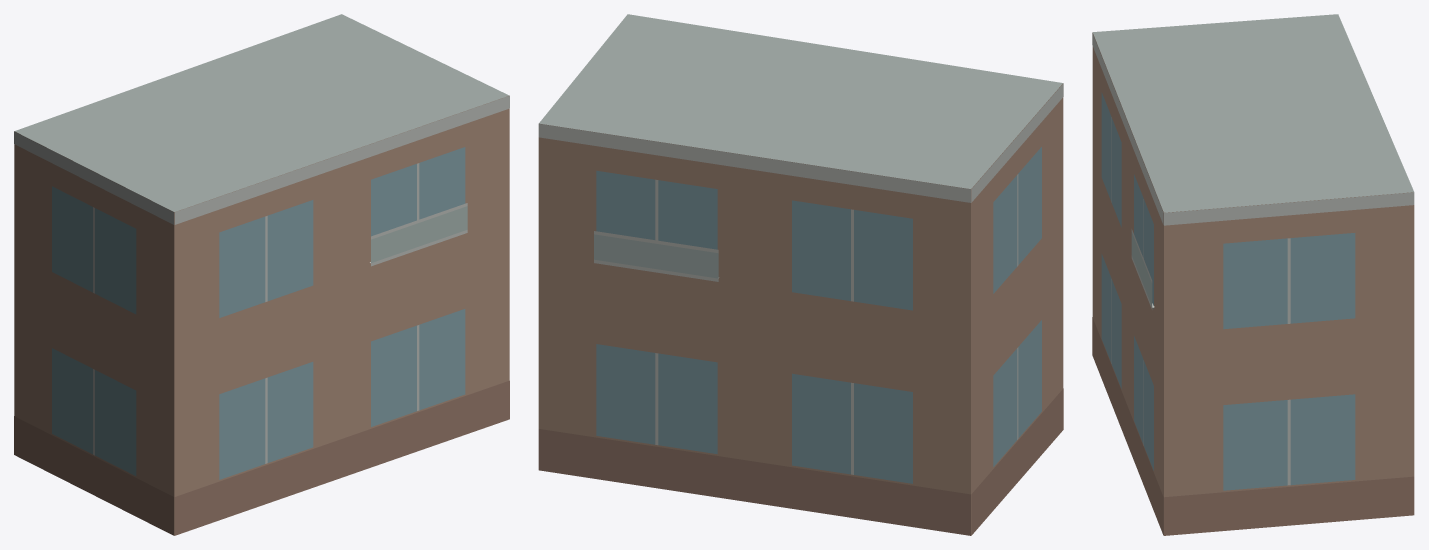
The model's file is survey-upis-32623905.glb.
3 renders of one model, left to right at view 1: azimuth 30°, elevation 25°; view 2: azimuth 150°, elevation 25°; view 3: azimuth 270°, elevation 25°, orthographic. The views are drawn at different scales.
Visible parts, largest first — view 1: survey-upis-32623905.tmp; view 2: survey-upis-32623905.tmp; view 3: survey-upis-32623905.tmp.
Part boxes in pixels (left/top/right/bottom): survey-upis-32623905.tmp: left=14, top=14, right=509, bottom=535; survey-upis-32623905.tmp: left=538, top=14, right=1063, bottom=535; survey-upis-32623905.tmp: left=1092, top=14, right=1414, bottom=535.
Size of the model in its own units: 8.06 by 6.1 by 5.52.
